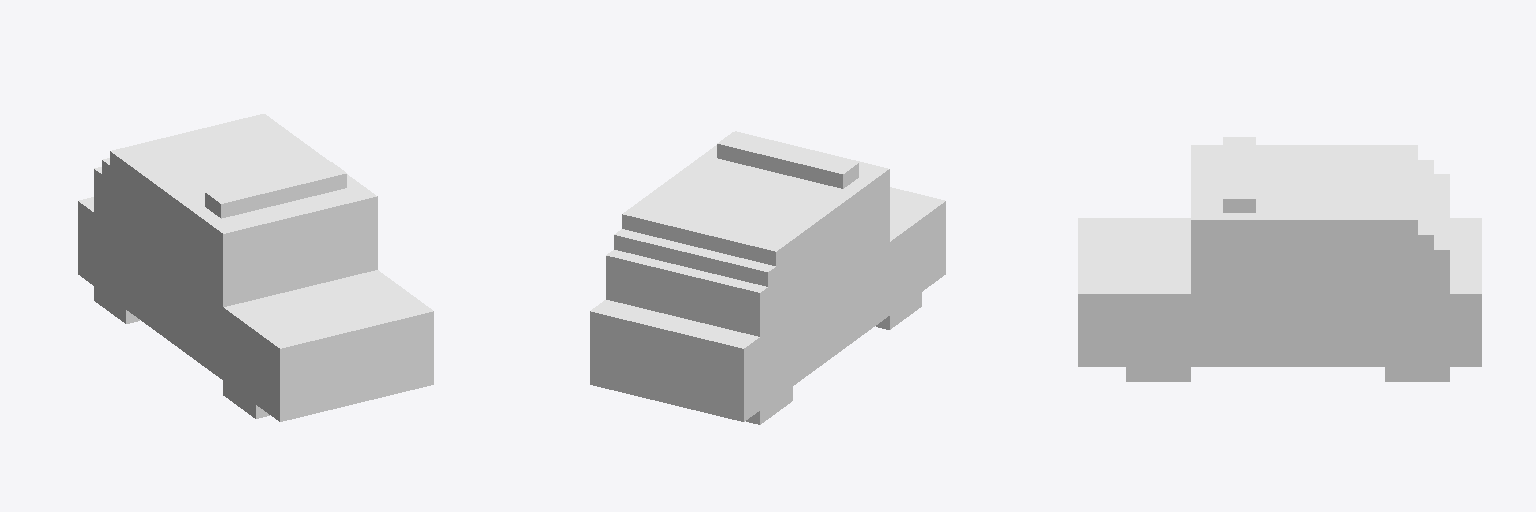
The model's file is Car3.obj.
The picture shows the model from 3 angles: view 1: azimuth 30°, elevation 25°; view 2: azimuth 150°, elevation 25°; view 3: azimuth 270°, elevation 25°; orthographic projection.
Bounding box in the file's own units: 11 × 12 × 25.